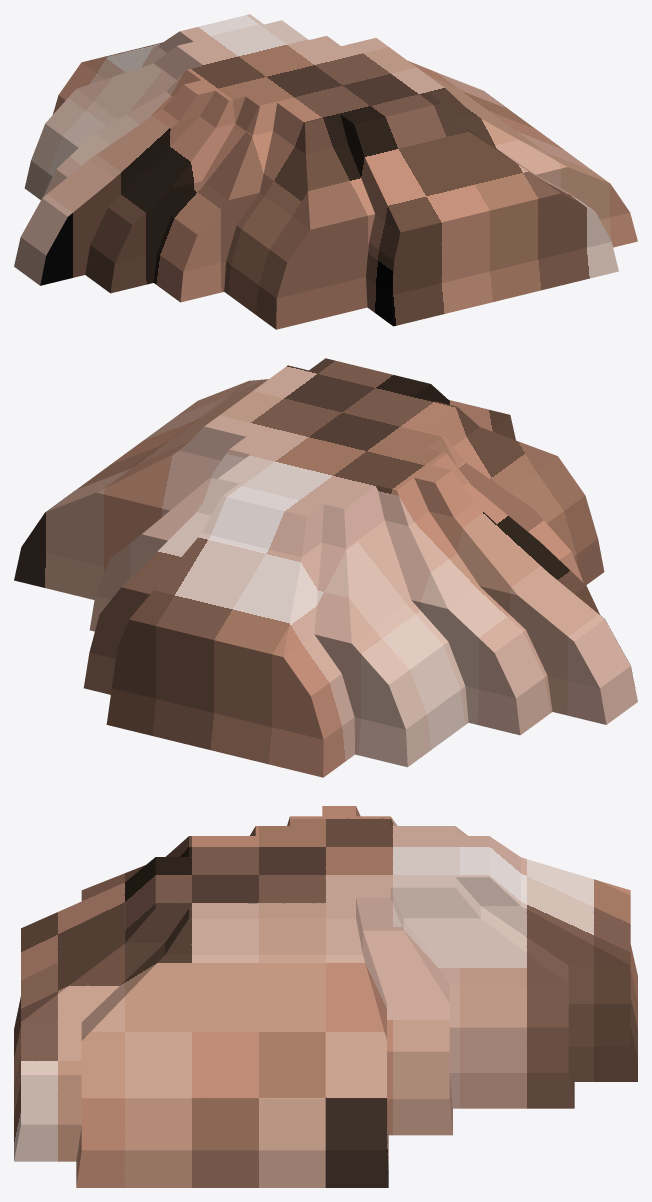
The model's file is debris_201x07.gltf.
The picture shows the model from 3 angles, top to bottom: view 1: azimuth 30°, elevation 25°; view 2: azimuth 150°, elevation 25°; view 3: azimuth 270°, elevation 25°; orthographic projection. The views are drawn at different scales.
Parts seen in each view (by area): view 1: debris_201x07; view 2: debris_201x07; view 3: debris_201x07.
Part boxes in pixels (left/top/right/bottom): debris_201x07: left=14, top=14, right=637, bottom=329; debris_201x07: left=14, top=358, right=637, bottom=777; debris_201x07: left=14, top=806, right=637, bottom=1187.
Bounding box in the file's own units: 1.11 × 0.3297 × 1.01.
Materials: 1 (1 with a texture image).
